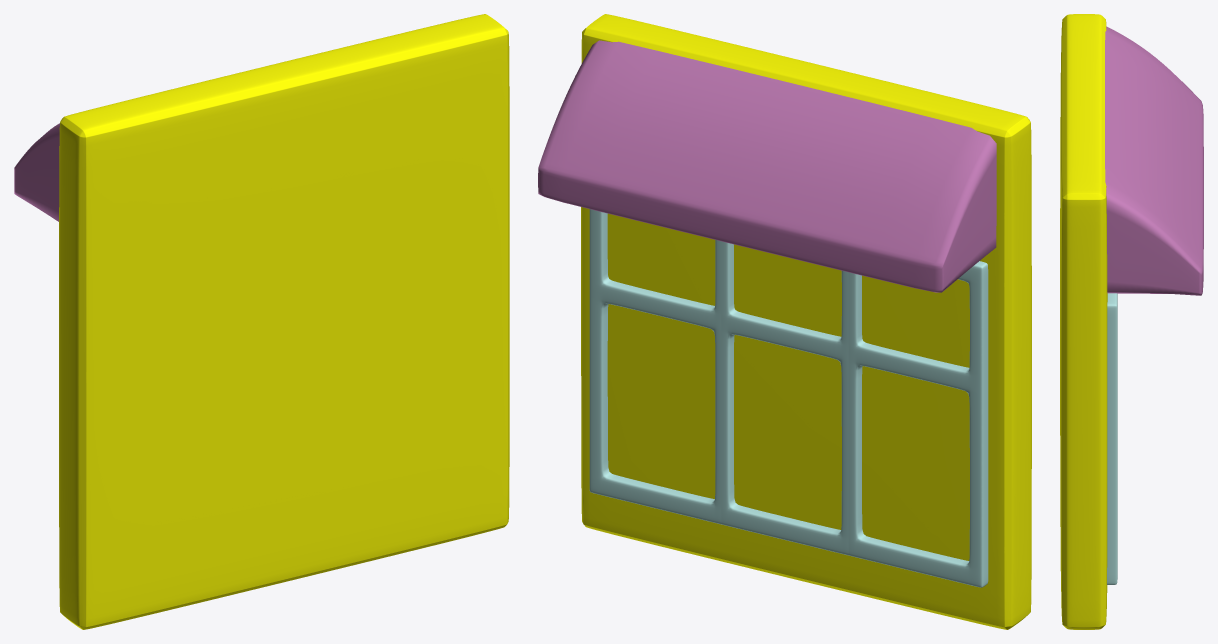
3 views of the same model, side by side, from view 1: azimuth 30°, elevation 25°; view 2: azimuth 150°, elevation 25°; view 3: azimuth 270°, elevation 25° (orthographic). The views are drawn at different scales.
Visible parts, largest first — view 1: pCube671; view 2: pCube671; view 3: pCube671.
Boxes of the visible parts, left/top/right/bottom form: pCube671: left=14, top=14, right=509, bottom=629; pCube671: left=538, top=14, right=1031, bottom=629; pCube671: left=1060, top=14, right=1203, bottom=629.
Size of the model in its own units: 0.8996 by 0.9995 by 0.2967.
